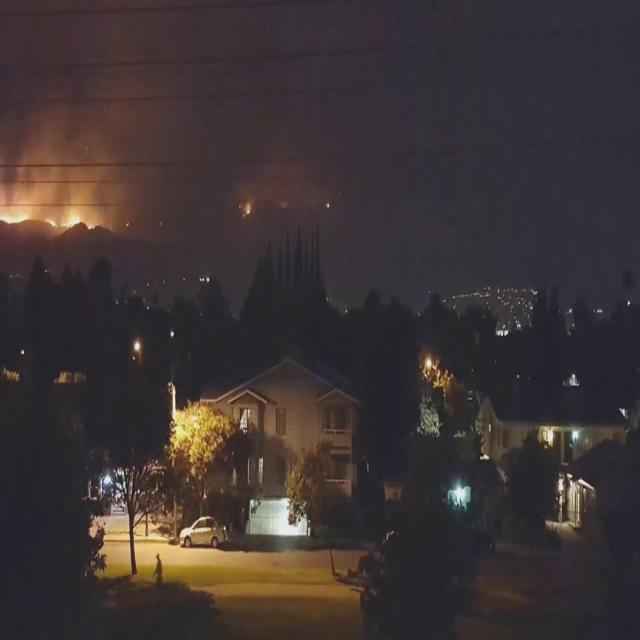Fire: (2, 21, 180, 238), (235, 146, 322, 210), (47, 206, 98, 230), (2, 208, 28, 226), (242, 204, 250, 218)
